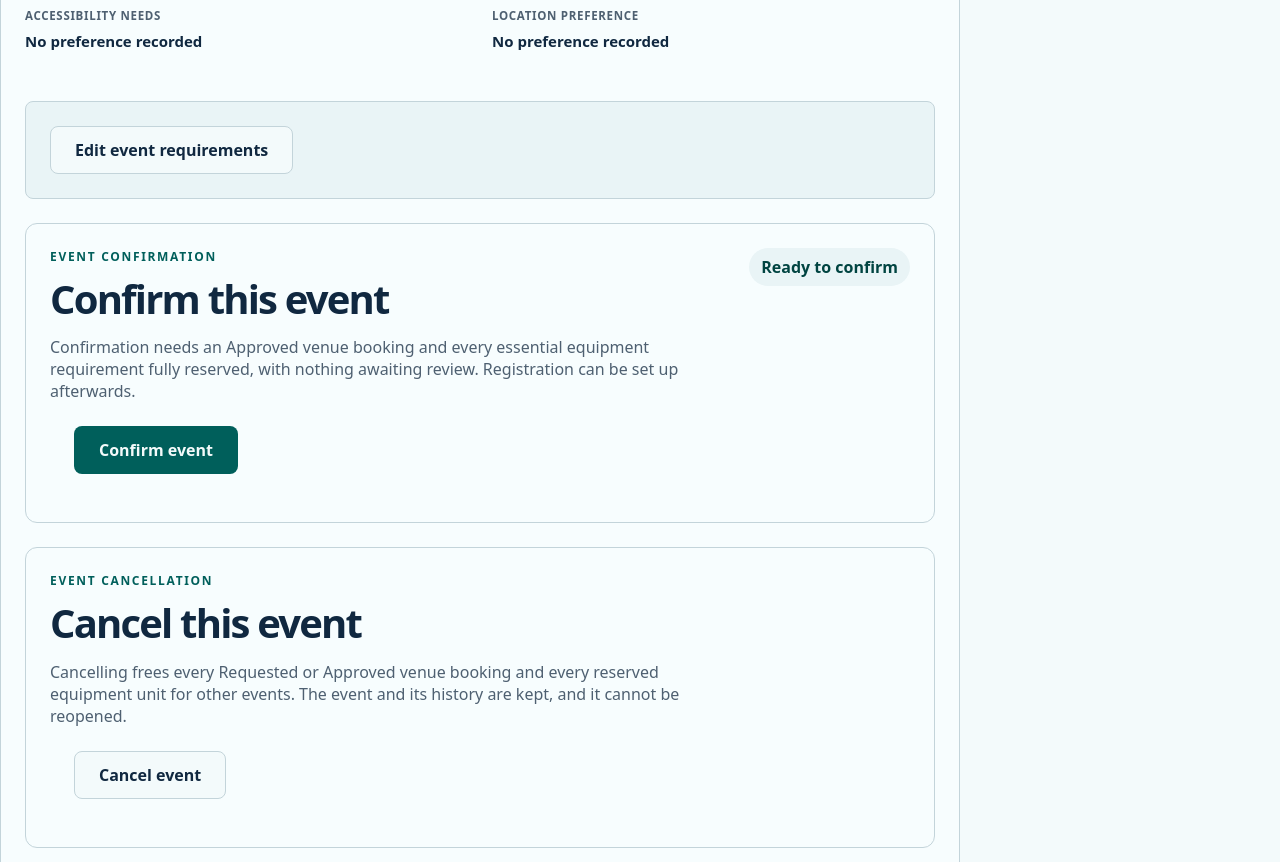
Scenario: [TC-SPL-85-24] shows the server refusal and its blockers, and stays In planning
(page scrolled)
What coordinates should you click on to do the following:
click the button "Confirm event"
I would click on:
 (156, 450)
Its box is [74, 426, 238, 474].
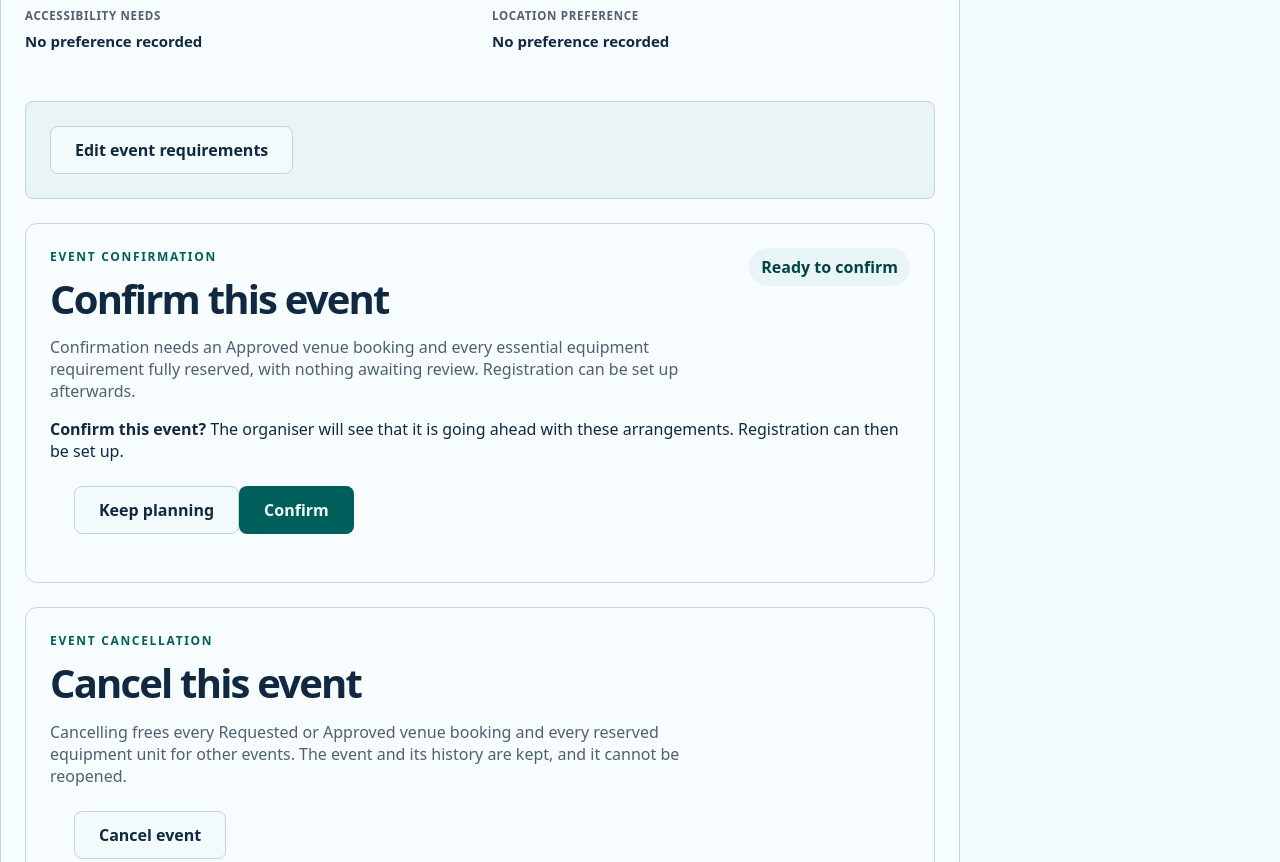
What coordinates should you click on to do the following:
click the button "Confirm"
I would click on:
 (296, 510)
Its box is [239, 486, 354, 534].
(page scrolled)
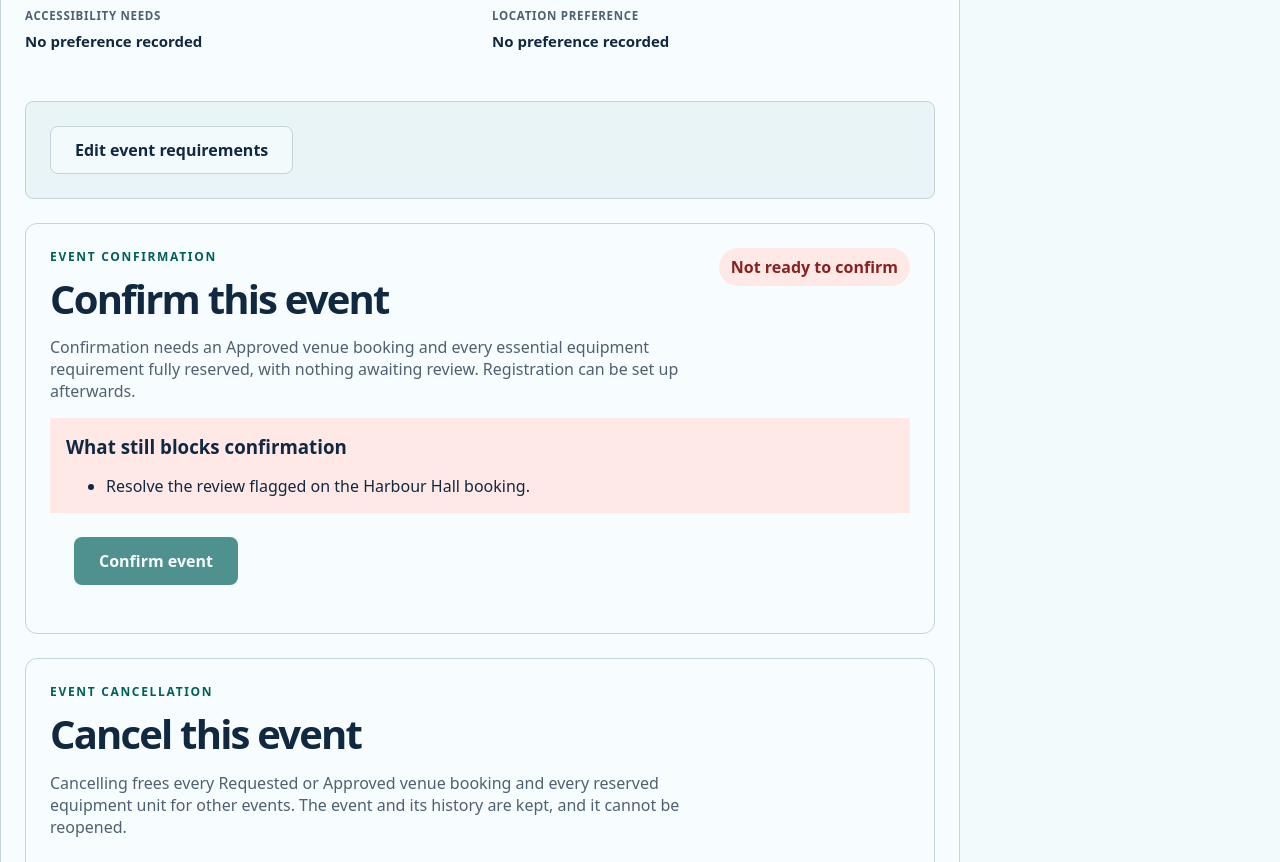
Expected: the button "Confirm event" is disabled, [74, 537, 238, 585]
Expected: the list item "Resolve the review flagged on the Harbour Hall booking." is shown, [106, 475, 530, 497]
Expected: the text "Not ready to confirm" is shown, [719, 248, 910, 286]
